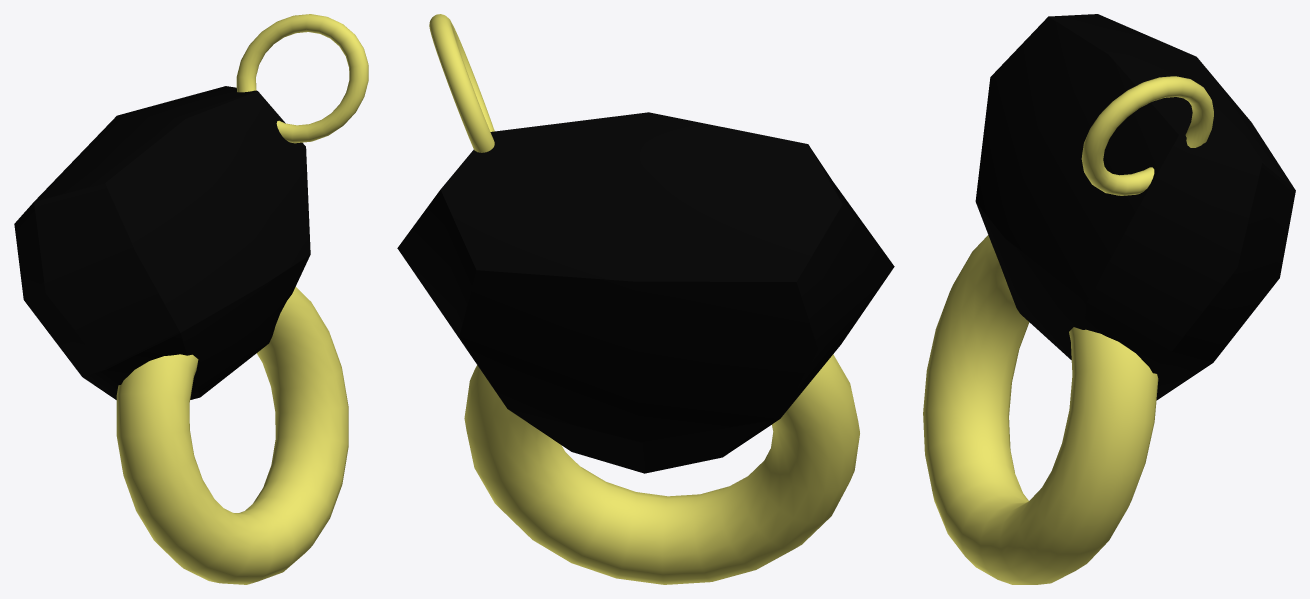
The picture shows the model from 3 angles, left to right: view 1: azimuth 30°, elevation 25°; view 2: azimuth 150°, elevation 25°; view 3: azimuth 270°, elevation 25°; orthographic projection. The views are drawn at different scales.
Visible parts, largest first — view 1: 402, nose_ring_01, nose_ring_02; view 2: 402, nose_ring_01, nose_ring_02; view 3: 402, nose_ring_01, nose_ring_02.
Boxes of the visible parts, box(x1,y1,x2,y2) form: 402: box(14, 86, 310, 399); nose_ring_01: box(116, 287, 348, 584); nose_ring_02: box(236, 14, 368, 143); 402: box(397, 112, 894, 473); nose_ring_01: box(464, 354, 859, 584); nose_ring_02: box(429, 14, 494, 152); 402: box(975, 14, 1295, 400); nose_ring_01: box(923, 235, 1158, 584); nose_ring_02: box(1081, 76, 1213, 195).
Size of the model in its own units: 7.2 by 5.72 by 9.46.
